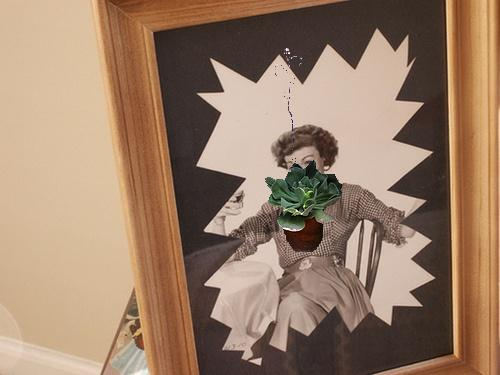tampered: (266, 49, 342, 252)
